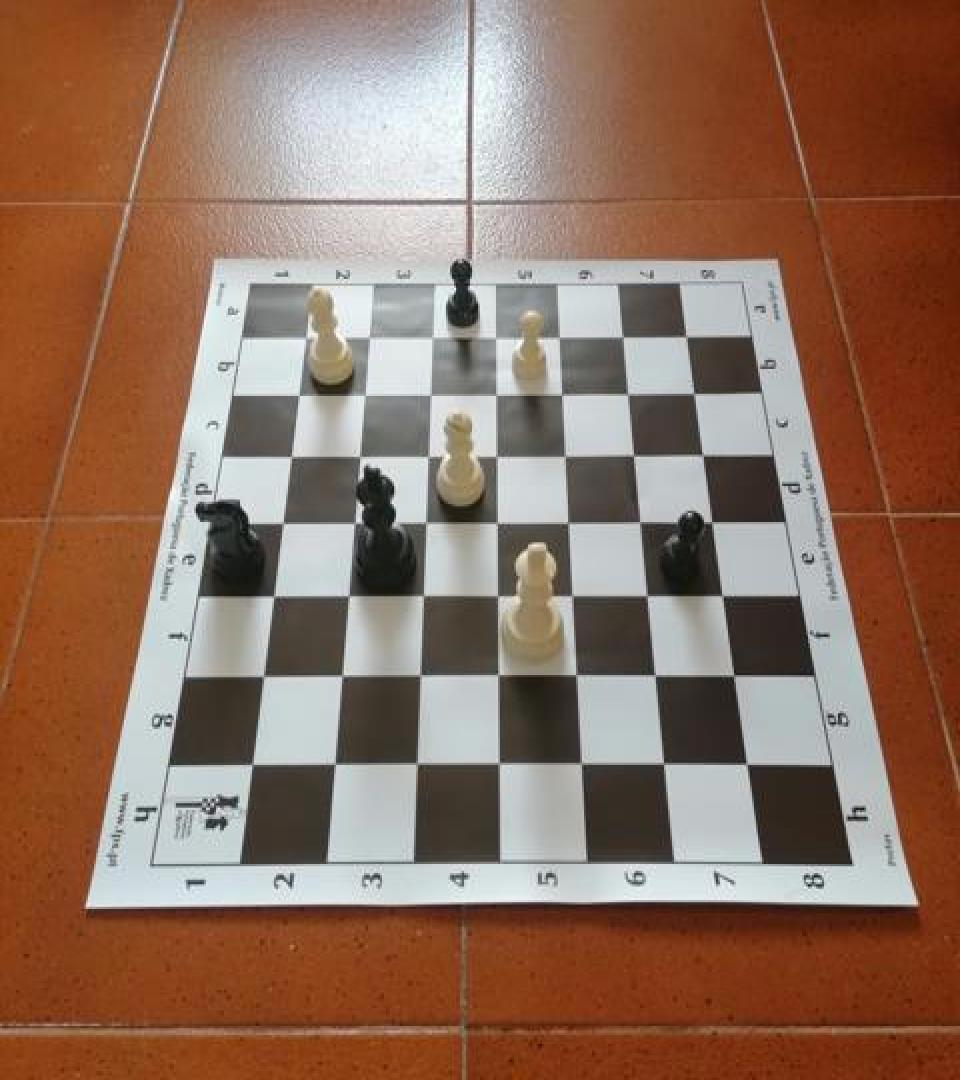xcorner: (673, 318, 703, 352), (609, 318, 639, 352), (545, 318, 575, 352), (481, 318, 511, 352), (418, 318, 448, 352), (354, 318, 384, 352), (290, 318, 320, 352), (681, 376, 711, 410), (614, 376, 644, 410), (548, 376, 578, 410), (482, 376, 512, 410), (416, 376, 446, 410), (349, 376, 379, 410), (283, 376, 313, 410), (690, 438, 720, 472), (620, 438, 650, 472), (551, 438, 581, 472), (482, 438, 512, 472), (413, 438, 443, 472), (344, 438, 374, 472), (275, 438, 305, 472), (699, 505, 729, 539), (627, 505, 657, 539), (555, 505, 585, 539), (483, 505, 513, 539), (411, 505, 441, 539), (339, 505, 369, 539), (267, 505, 297, 539), (710, 579, 740, 613), (634, 579, 664, 613), (559, 578, 589, 612), (483, 578, 513, 612), (408, 578, 438, 612), (333, 578, 363, 612), (257, 578, 287, 612), (721, 660, 751, 694), (642, 659, 672, 693), (563, 659, 593, 693), (484, 659, 514, 693), (405, 659, 435, 693), (326, 659, 356, 693), (247, 659, 277, 693), (734, 749, 764, 783), (651, 748, 681, 782), (568, 748, 598, 782), (485, 748, 515, 782), (402, 748, 432, 782), (319, 748, 349, 782), (236, 747, 266, 781)
